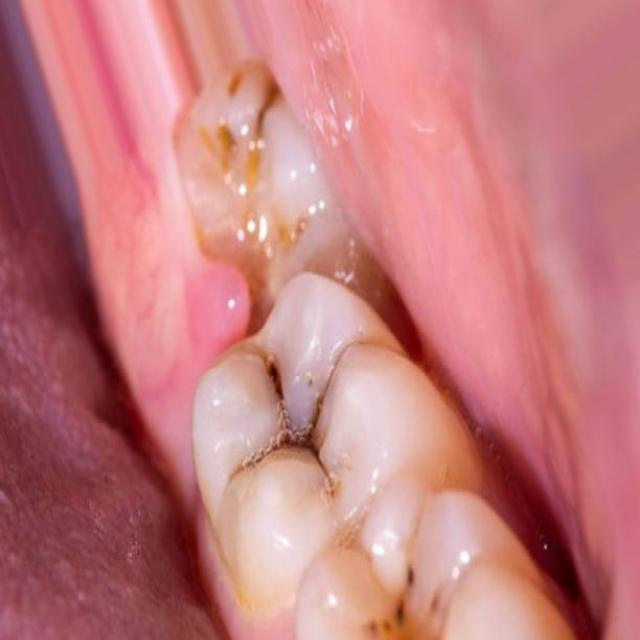caries: (237, 334, 364, 515), (188, 71, 296, 225), (339, 534, 463, 640)
